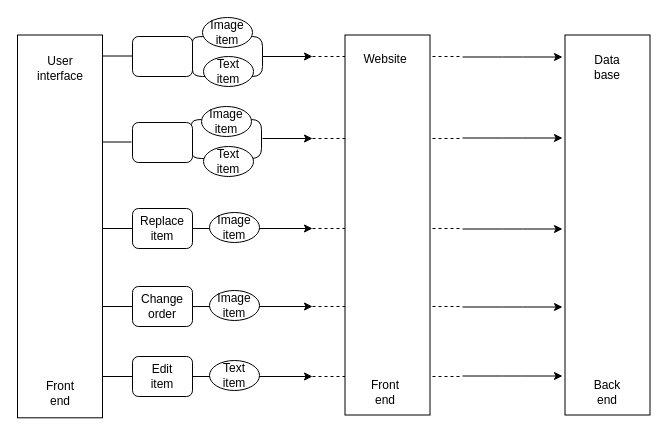
The diagram is 668 pixels wide and 436 high, and some of its shapes have lost their labels. The shapes that lost their labels are listed below. From the top down, each one's centre as x and y in pixels, then its label:
At pixel 162 56: "Add item".
At pixel 162 142: "Delete item".
